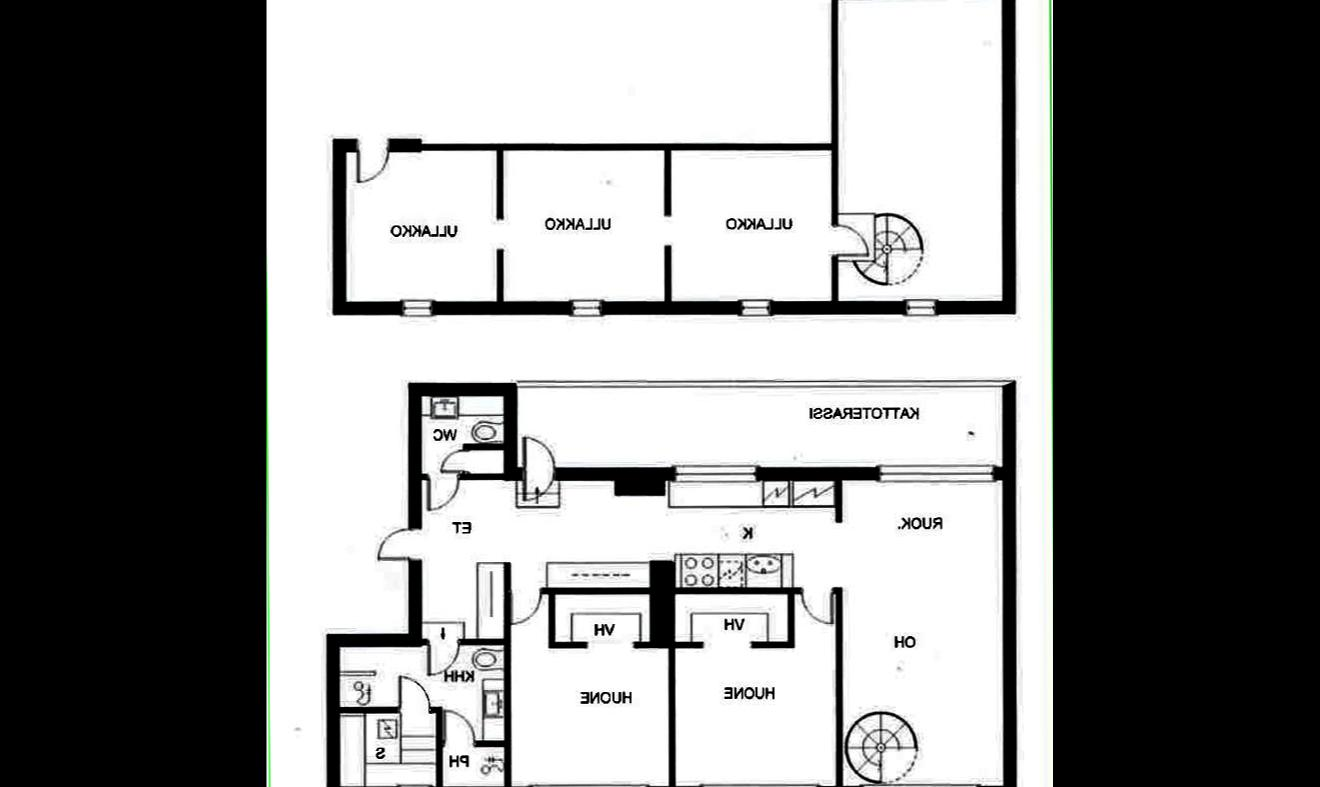bathroom: (433, 642, 506, 742), (423, 397, 505, 445)
door: (791, 581, 837, 630), (352, 136, 394, 186), (372, 526, 424, 566), (520, 434, 558, 483), (424, 638, 464, 682), (829, 220, 874, 258), (396, 672, 431, 718), (442, 710, 481, 749), (510, 585, 544, 628), (426, 473, 462, 512), (522, 468, 556, 505), (435, 446, 473, 477)
perimeter: (324, 380, 1021, 787), (327, 0, 1018, 317)
stairs: (846, 710, 920, 782), (858, 213, 925, 287)
window: (868, 460, 1004, 483), (667, 461, 767, 486), (736, 294, 781, 320), (897, 294, 945, 318), (394, 296, 442, 318), (568, 295, 608, 319), (522, 780, 656, 787), (691, 781, 823, 787), (856, 781, 985, 787), (388, 781, 437, 787)
